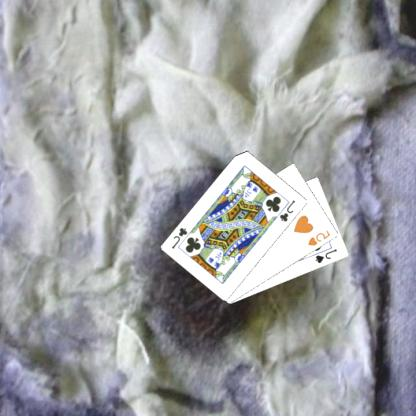5H: (308, 227, 334, 247)
JC: (279, 197, 299, 223), (171, 225, 191, 250)
JS: (314, 246, 340, 265)
